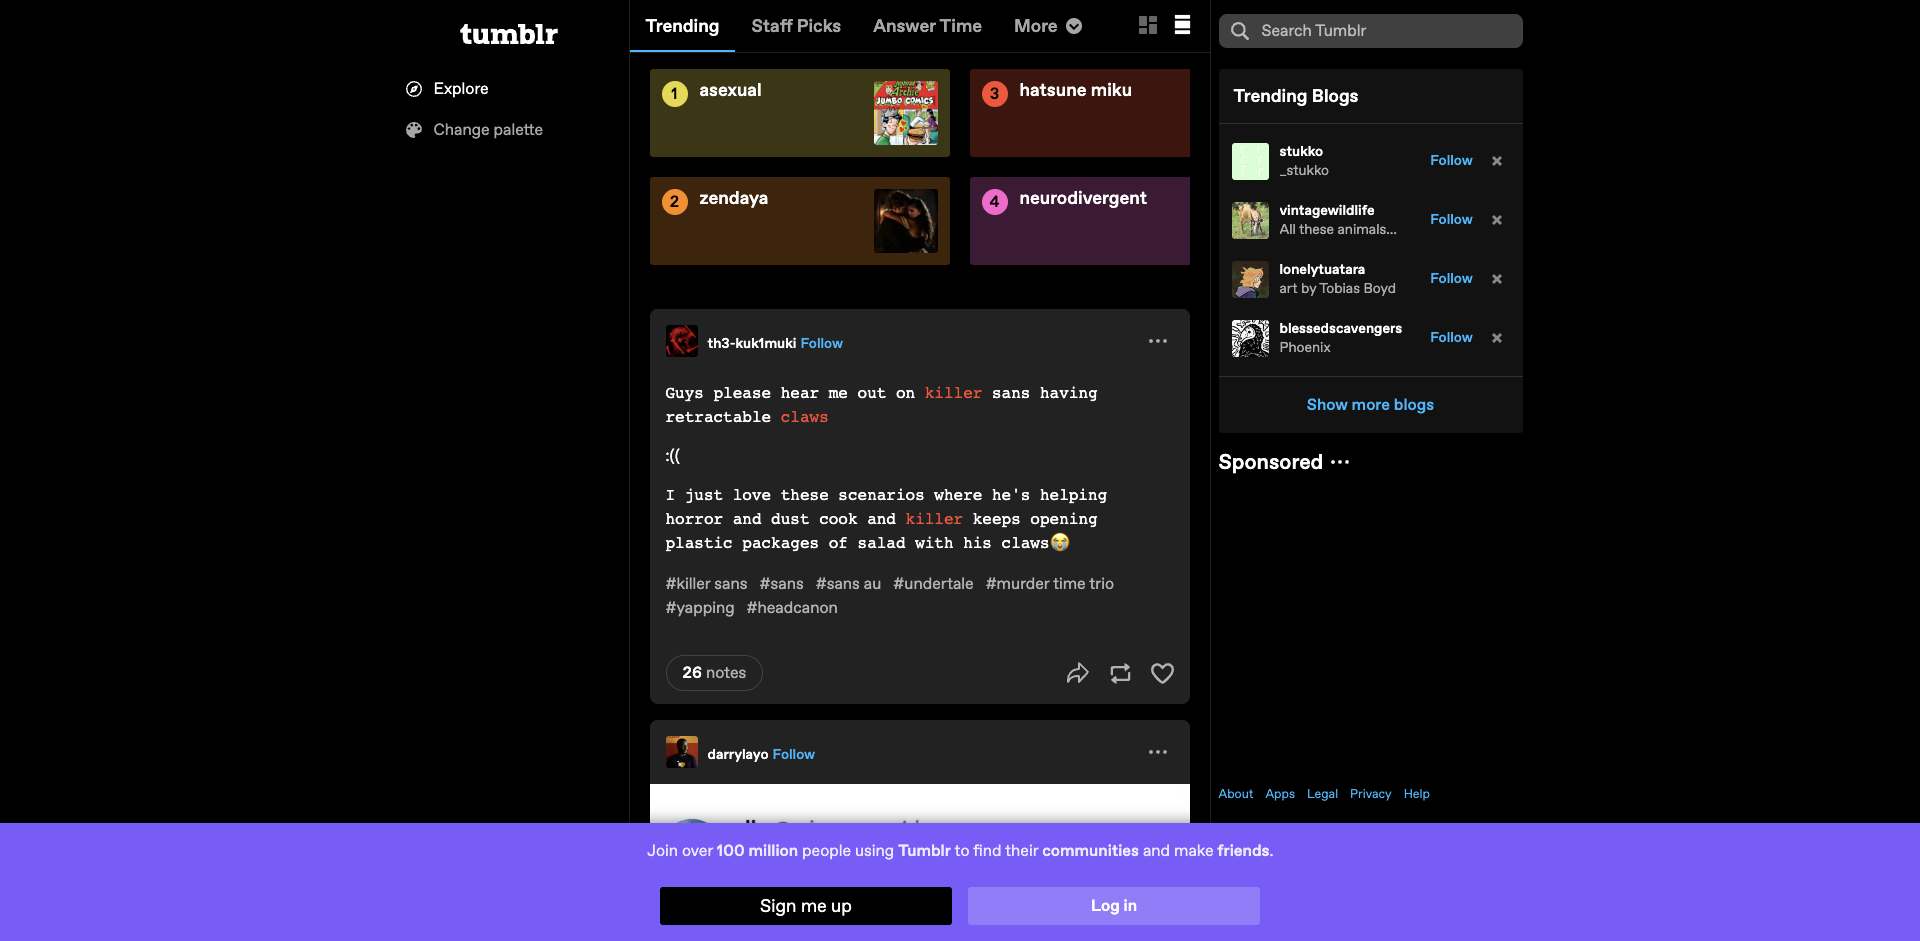button: (649, 784, 1189, 941), (1218, 376, 1522, 433), (660, 887, 951, 925), (969, 887, 1260, 925), (389, 109, 628, 149), (998, 0, 1097, 51), (665, 656, 763, 691), (628, 0, 684, 51), (1069, 0, 1125, 51), (1422, 152, 1487, 172), (1422, 211, 1487, 230), (1422, 270, 1487, 289), (1422, 328, 1487, 348), (1141, 325, 1173, 357), (1141, 736, 1173, 768), (801, 334, 844, 350), (773, 746, 816, 762), (1135, 12, 1160, 39), (1065, 660, 1090, 685), (1171, 13, 1194, 39), (1873, 908, 1894, 931), (1151, 663, 1173, 684), (1109, 663, 1130, 684), (1331, 457, 1368, 467), (1487, 153, 1501, 169), (1487, 212, 1501, 228), (1487, 272, 1501, 288), (1487, 331, 1501, 347)
input: (1256, 13, 1522, 48)
link: (649, 309, 1189, 372), (649, 720, 1189, 784), (649, 69, 949, 157), (649, 176, 949, 265), (970, 69, 1270, 157), (970, 176, 1270, 265), (1289, 69, 1589, 157), (1289, 176, 1589, 265), (1609, 69, 1909, 157), (1609, 176, 1909, 265), (1223, 132, 1422, 191), (1223, 191, 1422, 250), (1223, 250, 1422, 309), (1223, 309, 1422, 368), (389, 67, 628, 109), (857, 0, 998, 51), (736, 0, 857, 51), (629, 0, 736, 51), (980, 570, 1120, 598), (741, 594, 844, 622), (660, 570, 753, 598), (888, 570, 980, 598), (660, 594, 741, 622), (809, 570, 888, 598), (460, 25, 558, 44), (753, 570, 809, 598), (708, 334, 796, 350), (1340, 102, 1401, 121), (665, 325, 698, 357), (665, 736, 698, 768), (708, 746, 769, 762), (1351, 784, 1392, 803), (1218, 784, 1254, 803), (1307, 784, 1338, 803), (1265, 784, 1296, 803), (1403, 784, 1430, 803)
